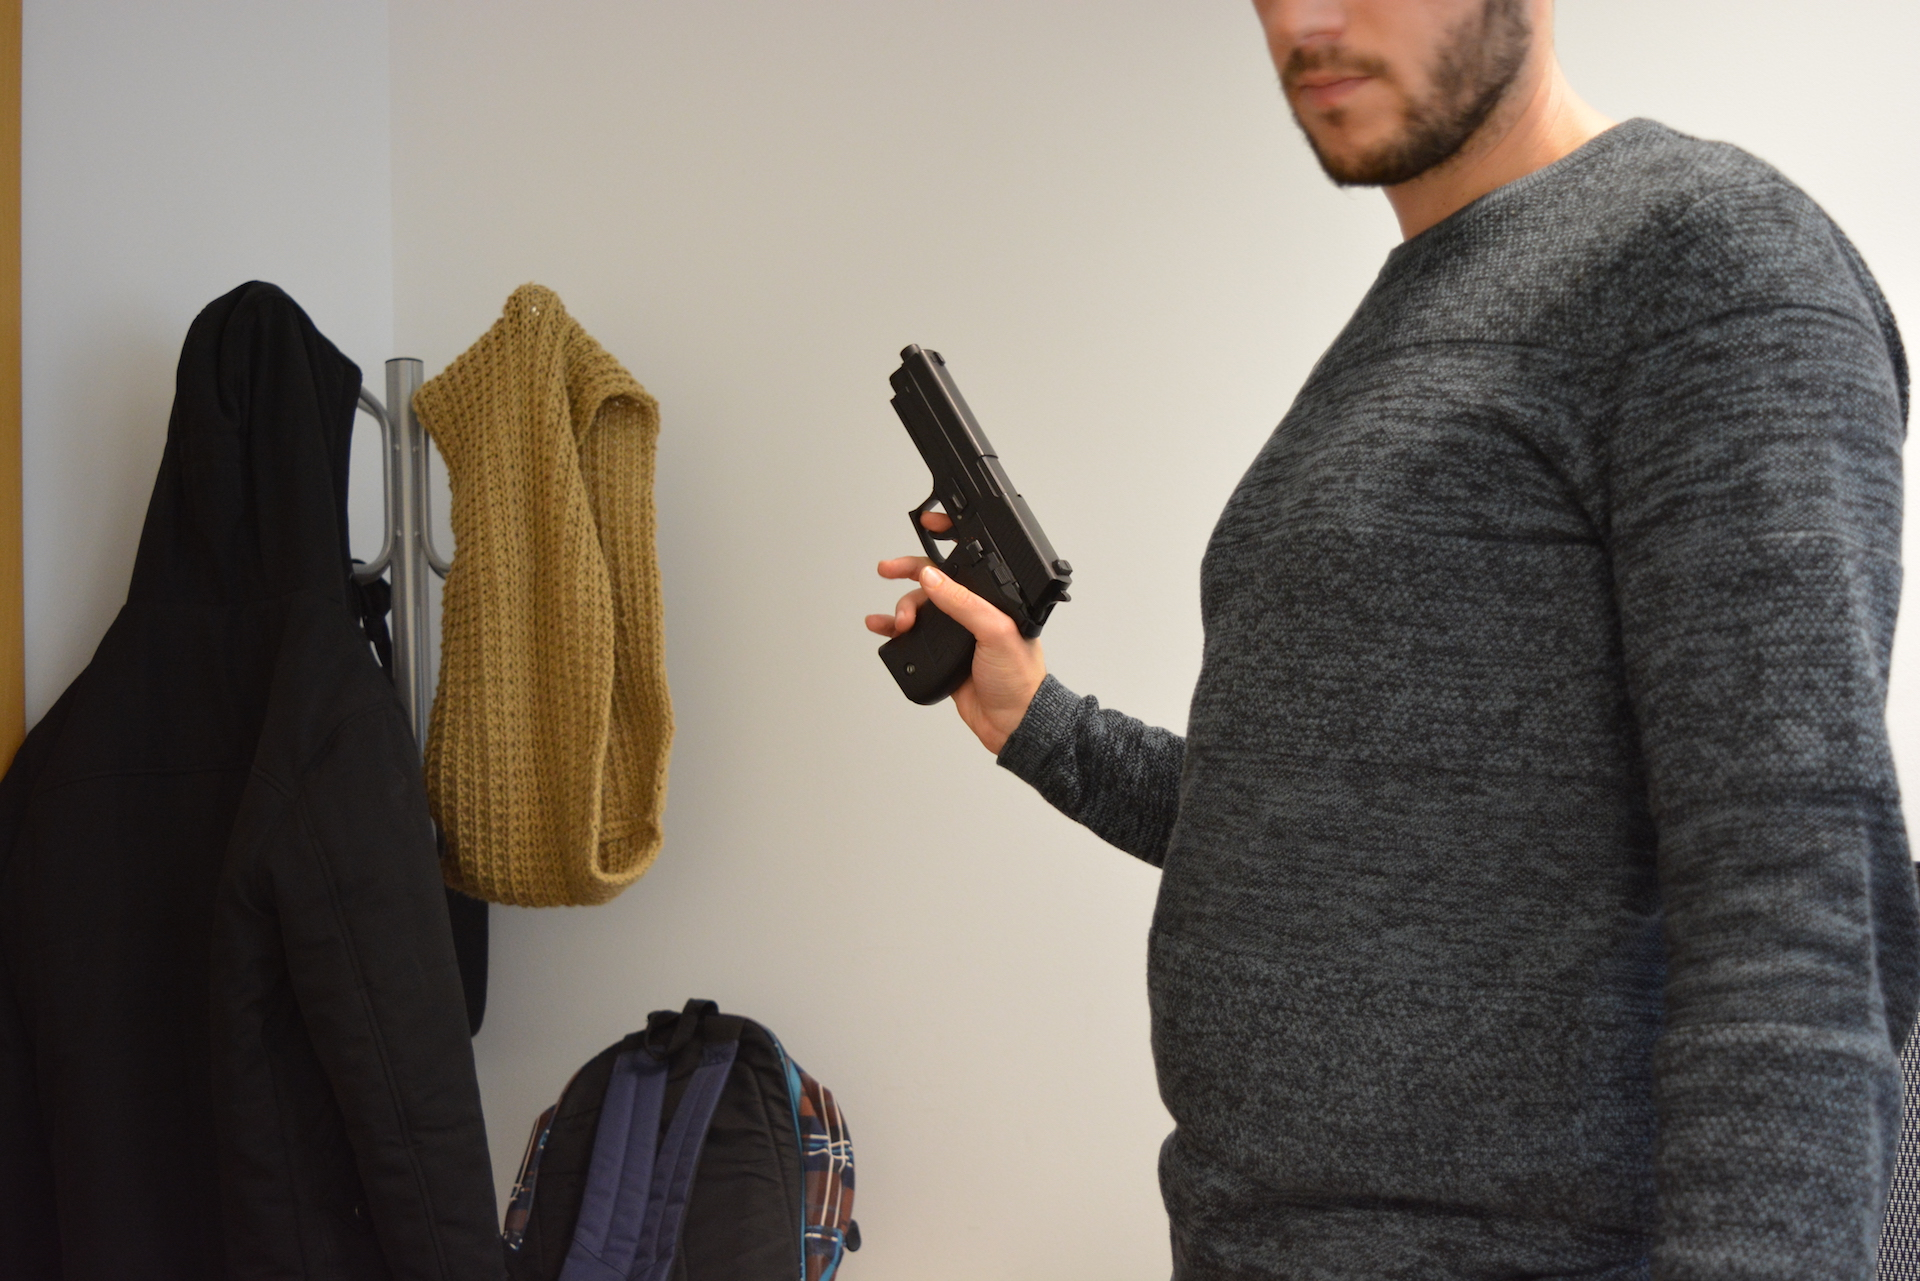pistol: (875, 340, 1075, 709)
